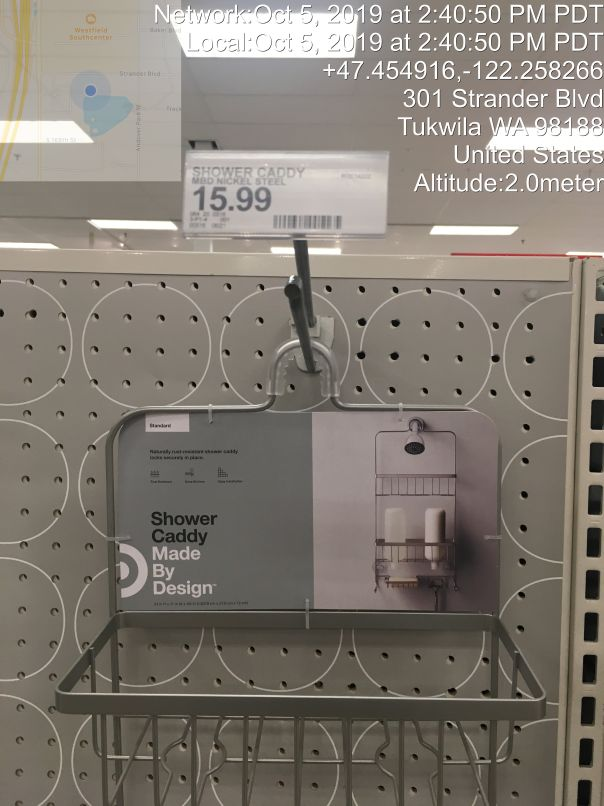Label: (177, 143, 397, 241)
Location: (395, 84, 604, 172)
Shower Caddy: (86, 355, 527, 802)
Time: (146, 2, 604, 58)
